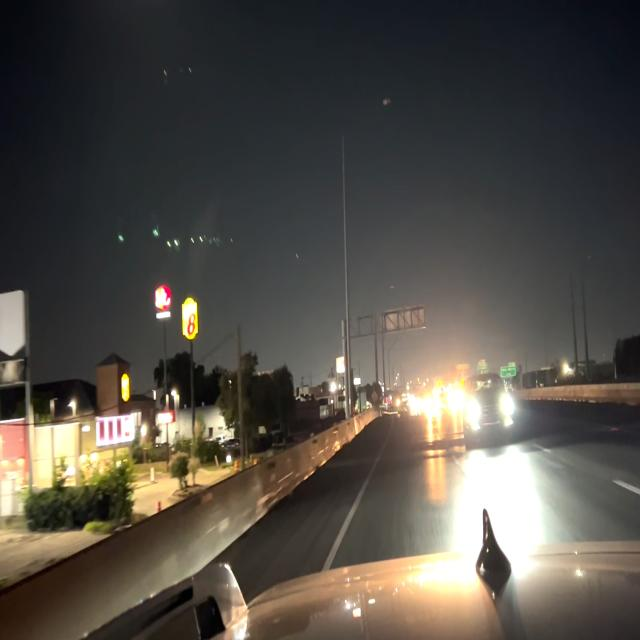back-of-sign: (381, 303, 429, 338)
